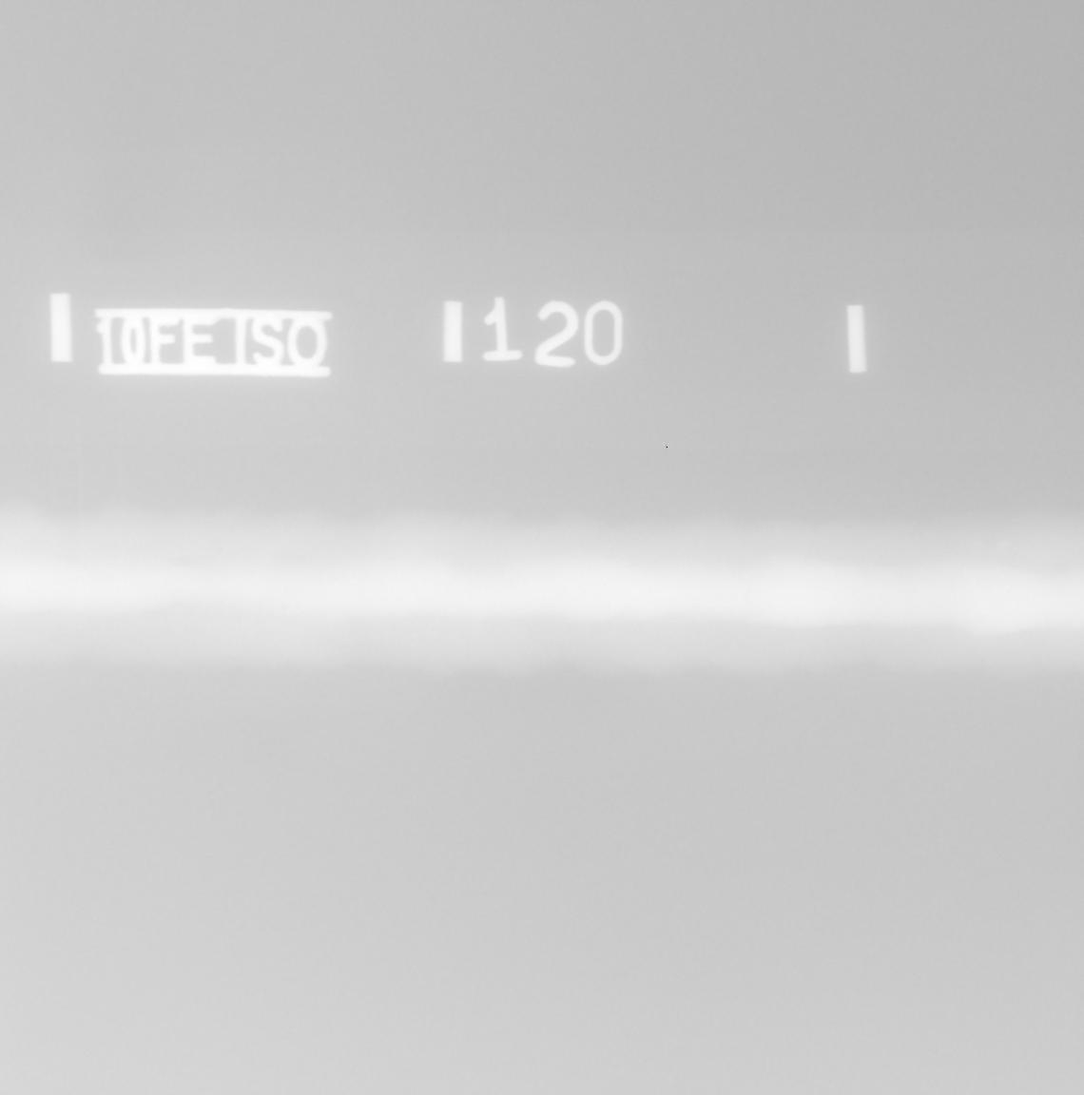Pore/Porosity: (235, 618, 241, 622)
